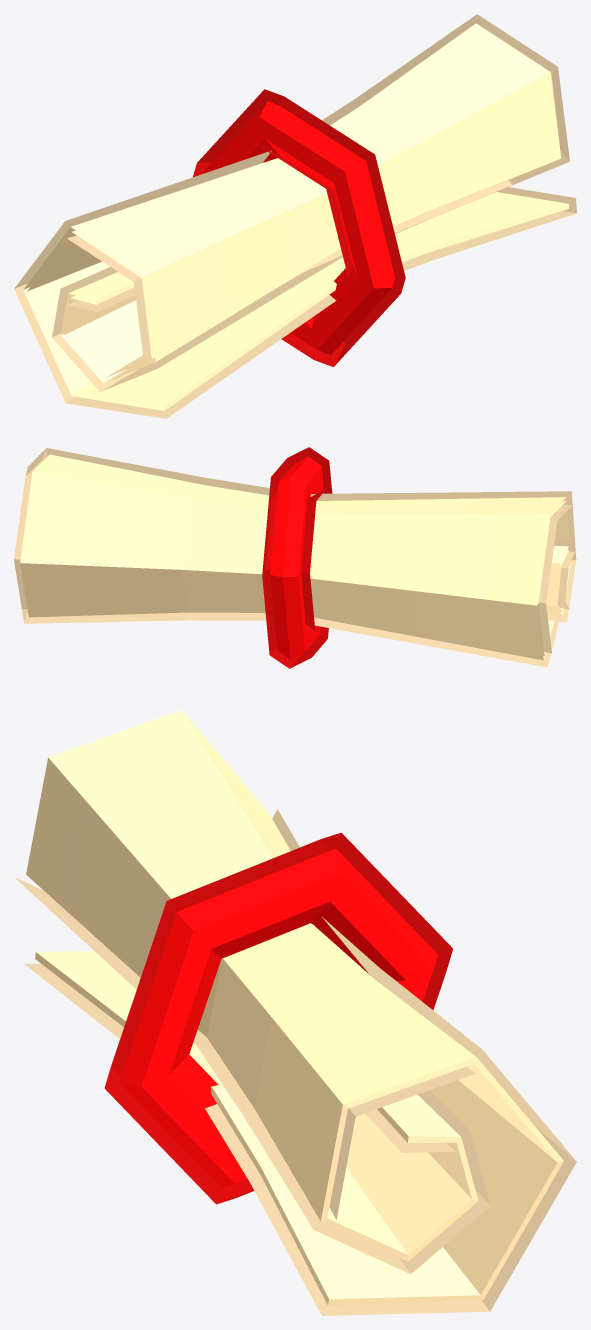
The model's file is scroll2.glb.
3 renders of one model, top to bottom at view 1: azimuth 30°, elevation 25°; view 2: azimuth 150°, elevation 25°; view 3: azimuth 270°, elevation 25°, orthographic. The views are drawn at different scales.
Parts seen in each view (by area): view 1: Scroll.001, PaperToon.002; view 2: Scroll.001, PaperToon.002; view 3: Scroll.001, PaperToon.002.
Boxes of the visible parts, left/top/right/bottom form: Scroll.001: left=23, top=23, right=568, bottom=410; PaperToon.002: left=14, top=14, right=576, bottom=418; Scroll.001: left=20, top=454, right=570, bottom=660; PaperToon.002: left=14, top=447, right=576, bottom=668; Scroll.001: left=26, top=710, right=563, bottom=1305; PaperToon.002: left=15, top=809, right=576, bottom=1315.
Bounding box in the file's own units: 0.2737 × 0.1137 × 0.1634.
Materials: 2 (2 with a texture image).
